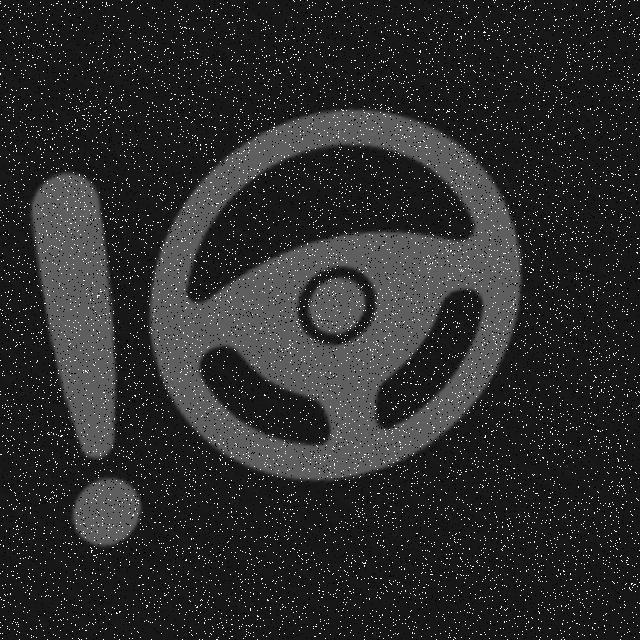Electronic Power Steering: (7, 68, 571, 561)
